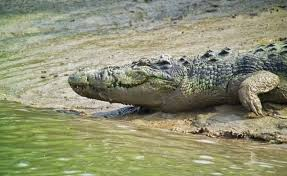Crocodile: (69, 38, 287, 119)
